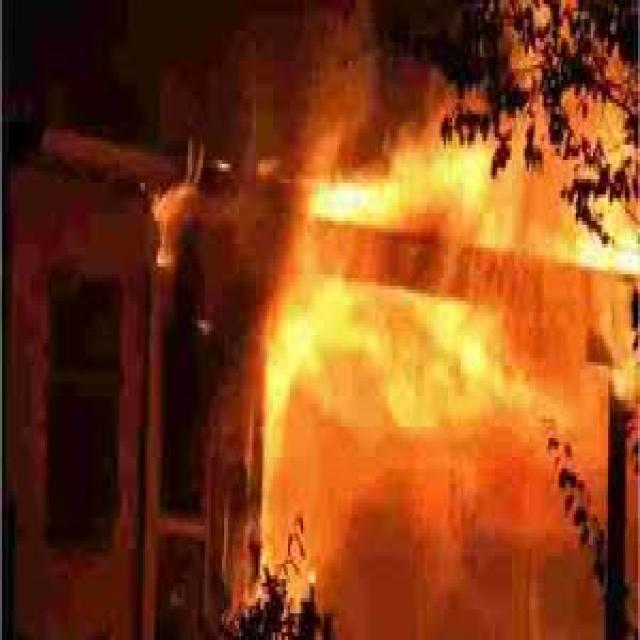Fire: (253, 141, 627, 517)
